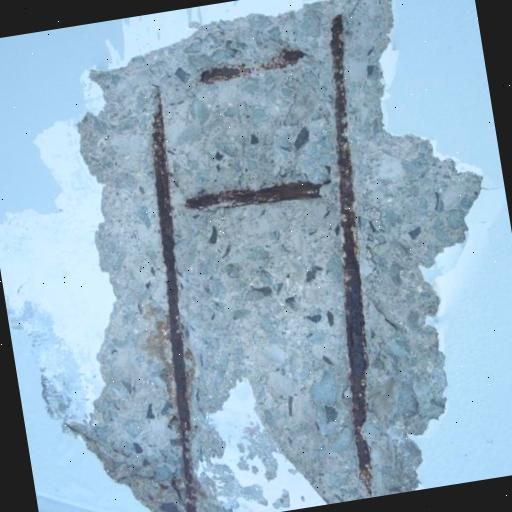spalling: (65, 0, 483, 512)
